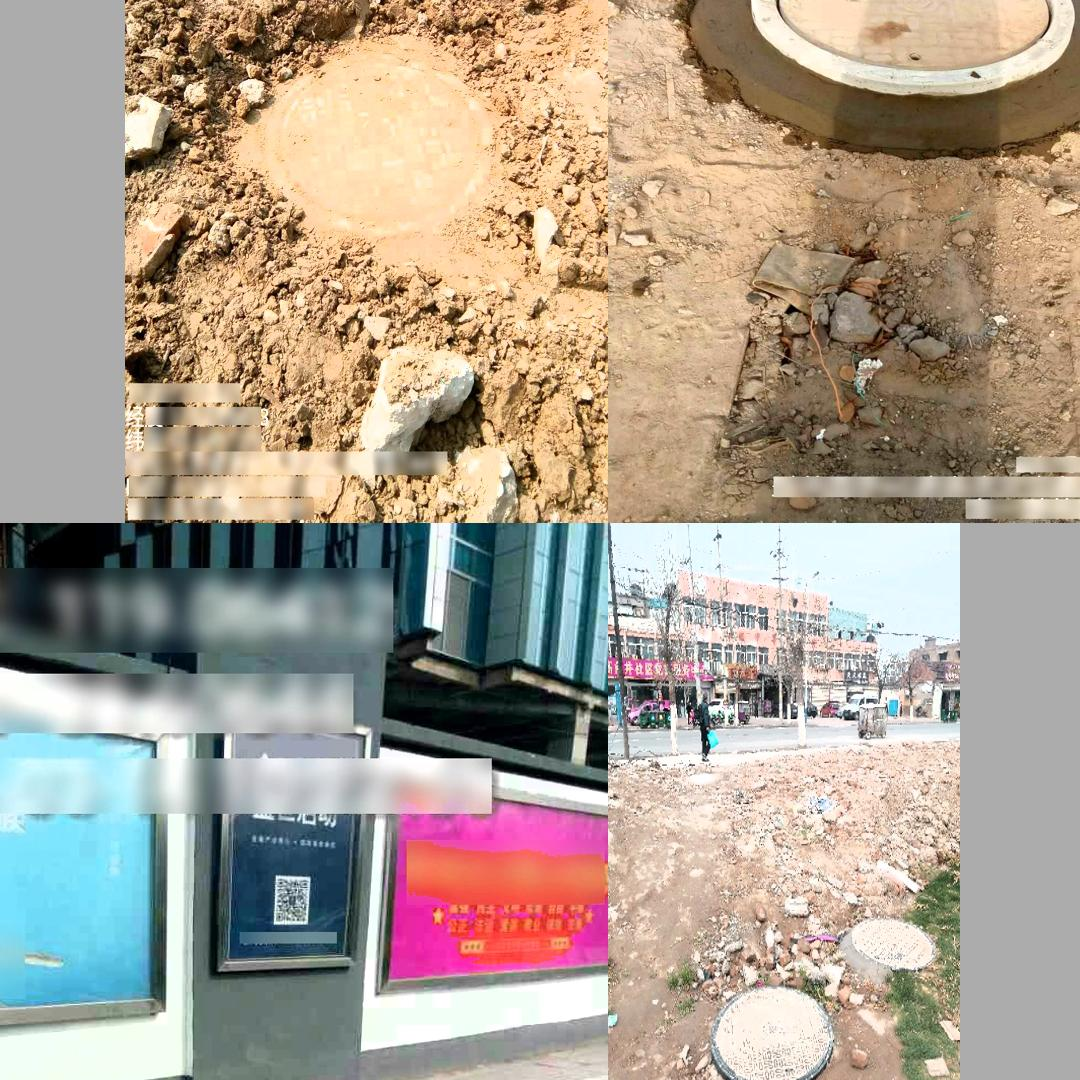good: (263, 54, 495, 232), (749, 0, 1076, 95), (711, 985, 835, 1080), (851, 916, 935, 971)
